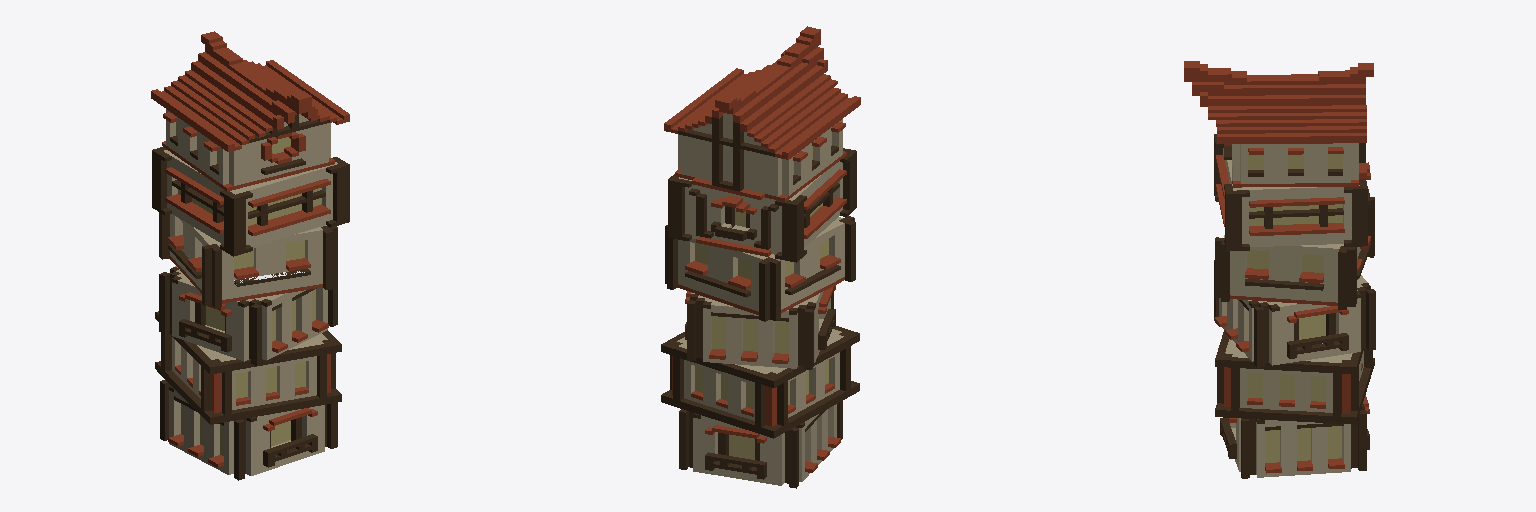
File: TowerExample1.obj
3 views of the same model, side by side, from view 1: azimuth 30°, elevation 25°; view 2: azimuth 150°, elevation 25°; view 3: azimuth 270°, elevation 25° (orthographic).
Visible parts, largest first — view 1: TowerExample1; view 2: TowerExample1; view 3: TowerExample1.
Part boxes in pixels (left/top/right/bottom): TowerExample1: left=151, top=31, right=349, bottom=480; TowerExample1: left=661, top=26, right=860, bottom=488; TowerExample1: left=1184, top=61, right=1375, bottom=478.
Bounding box in the file's own units: 1.28 × 3.35 × 1.52.